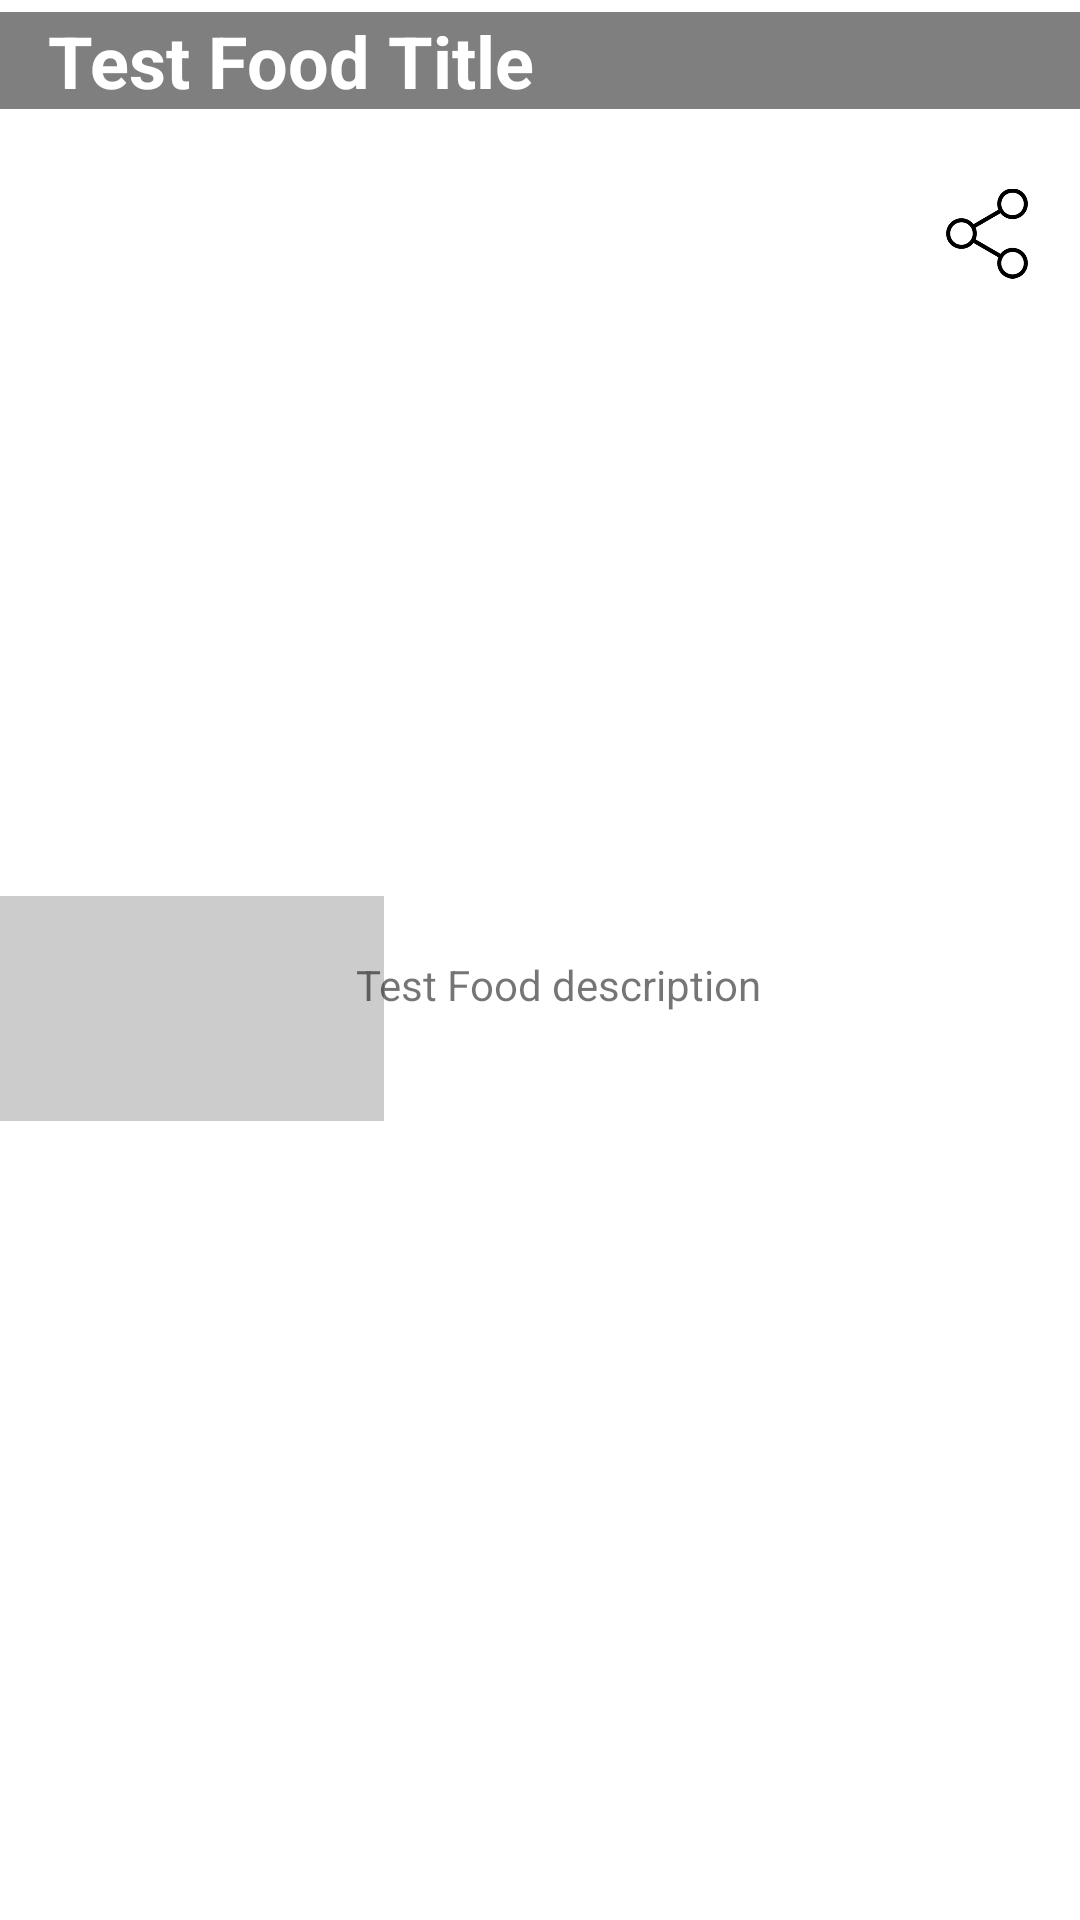

Screen size 1080×1920. Icon name, then its box in pixels as (x1, y1, x2, y2):
share: (946, 189, 1028, 279)
